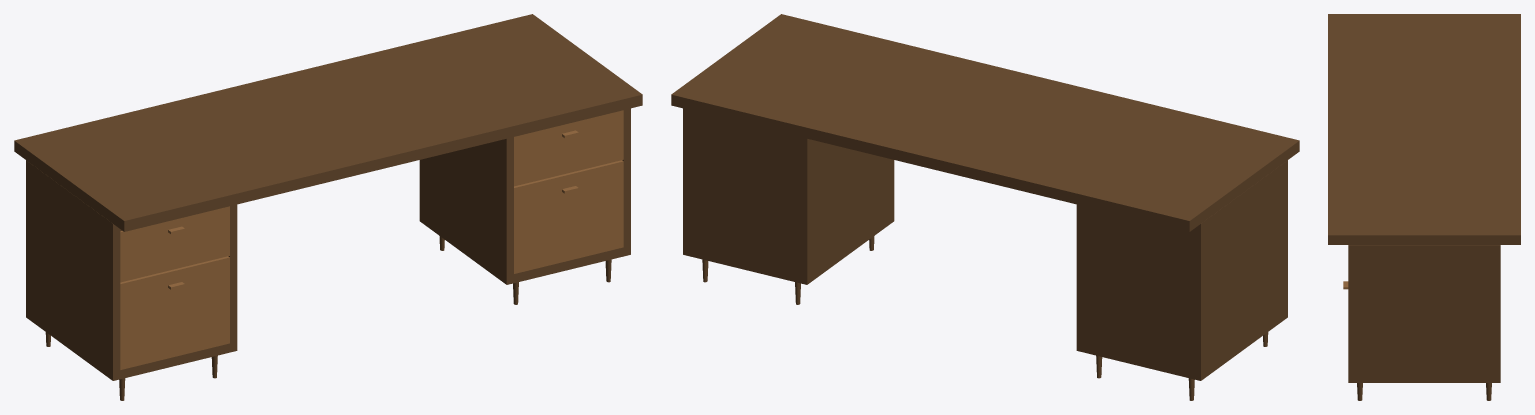
Rendered from Escritorio.fbx.
3 renders of one model, left to right at view 1: azimuth 30°, elevation 25°; view 2: azimuth 150°, elevation 25°; view 3: azimuth 270°, elevation 25°, orthographic. The views are drawn at different scales.
Visible parts, largest first — view 1: tabla.001, cajon grande.001, cajon grande, cajon pequeño.001, cajon pequeño; view 2: tabla.001; view 3: tabla.001.
Boxes of the visible parts, left/top/right/bottom form: tabla.001: left=14, top=14, right=642, bottom=400; cajon grande.001: left=120, top=256, right=229, bottom=369; cajon grande: left=514, top=160, right=623, bottom=273; cajon pequeño.001: left=120, top=206, right=229, bottom=282; cajon pequeño: left=514, top=110, right=623, bottom=186; tabla.001: left=671, top=14, right=1299, bottom=400; tabla.001: left=1328, top=14, right=1520, bottom=400.
Bounding box in the file's own units: 214 × 77.5 × 78.88.
